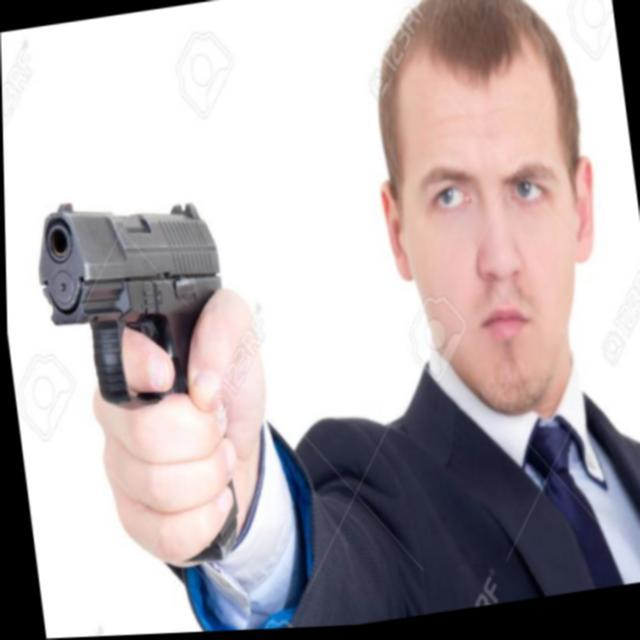weapon: (28, 178, 255, 584)
